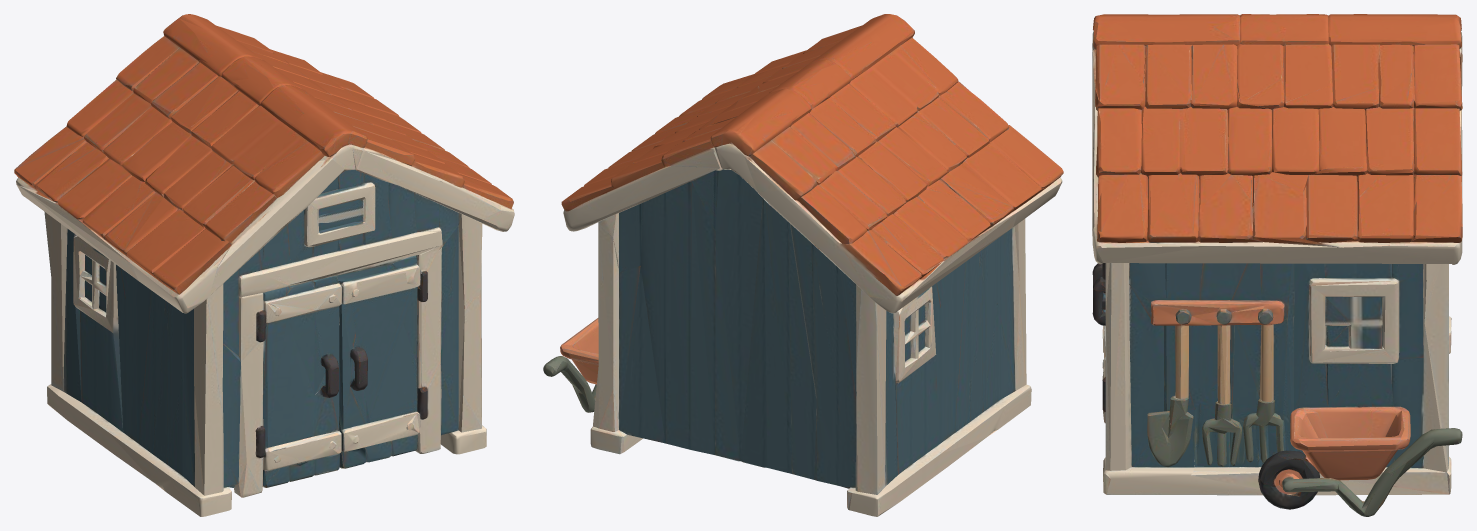
The model's file is toolShed.glb.
3 views of the same model, side by side, from view 1: azimuth 30°, elevation 25°; view 2: azimuth 150°, elevation 25°; view 3: azimuth 270°, elevation 25° (orthographic). The views are drawn at different scales.
Parts seen in each view (by area): view 1: Mesh_0; view 2: Mesh_0; view 3: Mesh_0.
Part boxes in pixels (x1=…): Mesh_0: x1=14, y1=14, x2=514, y2=516; Mesh_0: x1=543, y1=14, x2=1063, y2=516; Mesh_0: x1=1092, y1=14, x2=1462, y2=516.
Size of the model in its own units: 3.2 by 2.93 by 2.46.
Materials: 1 (1 with a texture image).
